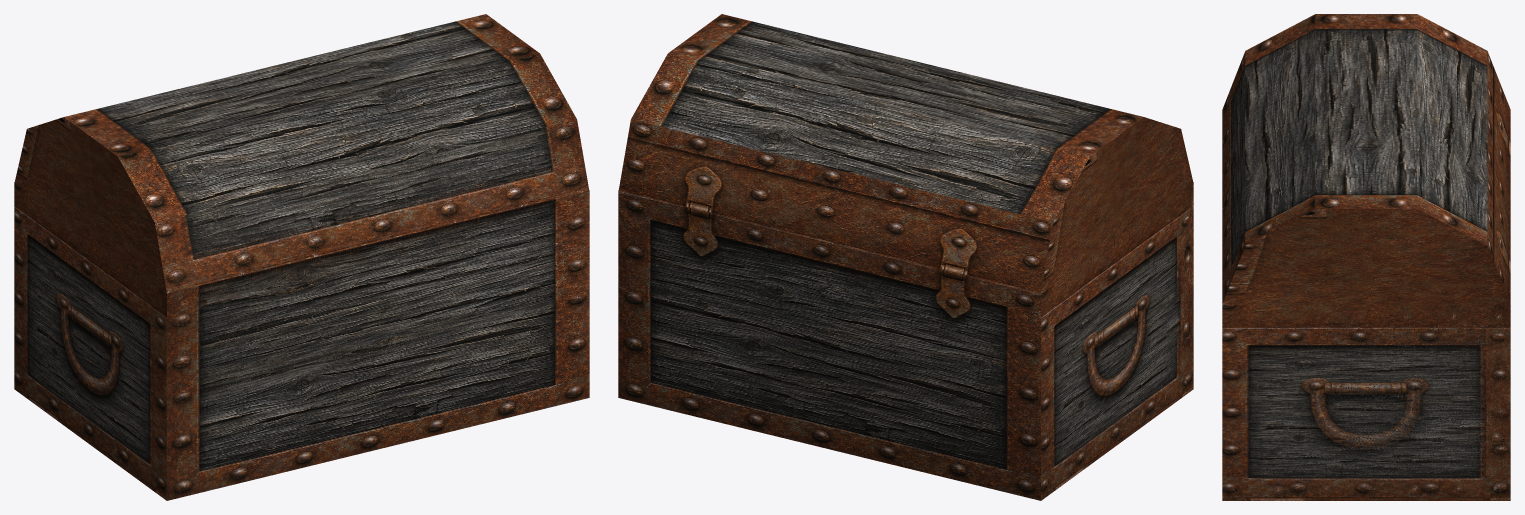
The model's file is mm9_deco_chestrusty01.glb.
3 renders of one model, left to right at view 1: azimuth 30°, elevation 25°; view 2: azimuth 150°, elevation 25°; view 3: azimuth 270°, elevation 25°, orthographic. The views are drawn at different scales.
Visible parts, largest first — view 1: Chestrusty01; view 2: Chestrusty01; view 3: Chestrusty01.
Part boxes in pixels (box(x1,y1,x2,y2)): Chestrusty01: box(14, 14, 589, 500); Chestrusty01: box(618, 14, 1193, 500); Chestrusty01: box(1222, 14, 1510, 500).
Bounding box in the file's own units: 1 × 0.6993 × 0.6267.
1 material, 1 textured.
